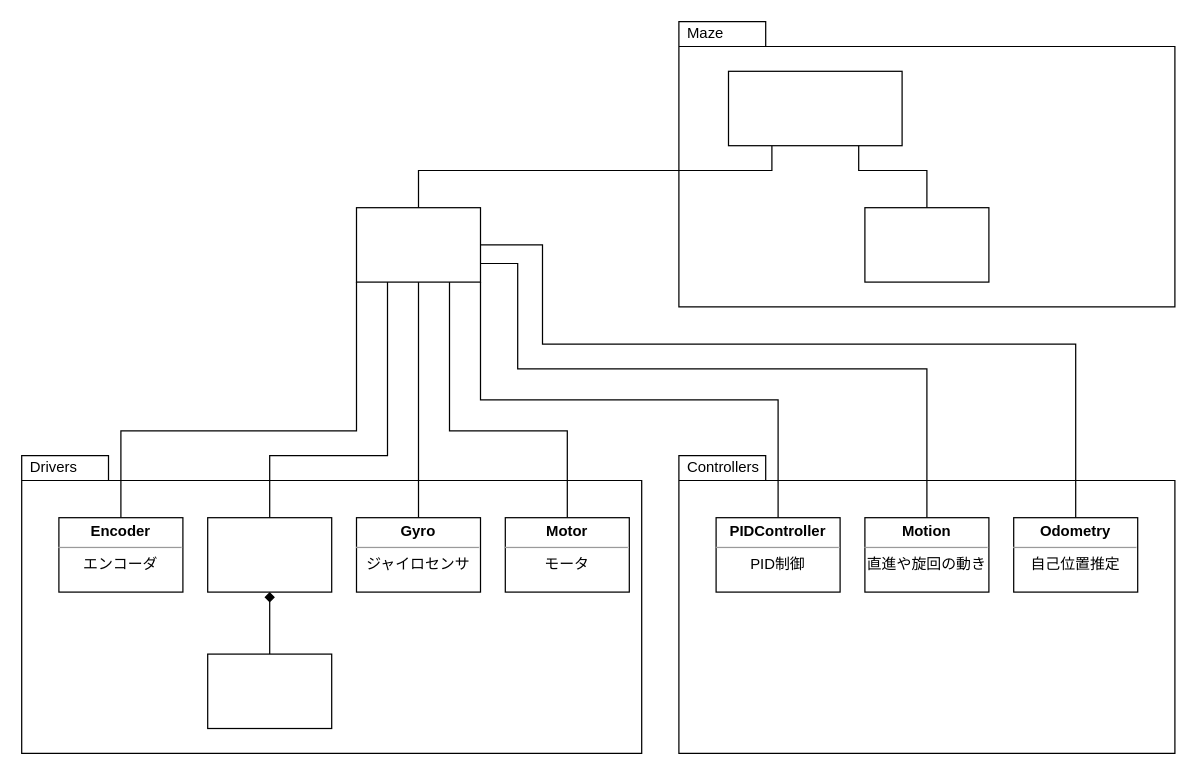
Image size: 1197x775. Some labels were removed from this diagram. Each missing label, with the centre of its shape:
"Agent 迷路探索エージェント" belongs at [814,108].
"Maze 迷路の表現" belongs at [926,244].
"Mouse マウス" belongs at [417,244].
"Sensor 赤外線センサ" belongs at [269,690].
"WallSensor 壁センサ" belongs at [269,554].
